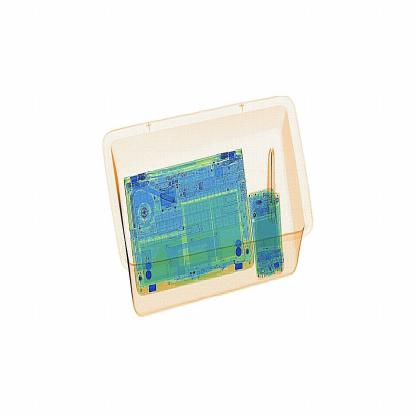pliers: (263, 147, 281, 221)
